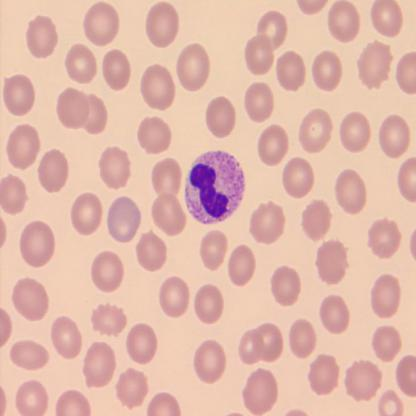Band Neutrophil: (180, 145, 245, 228)
